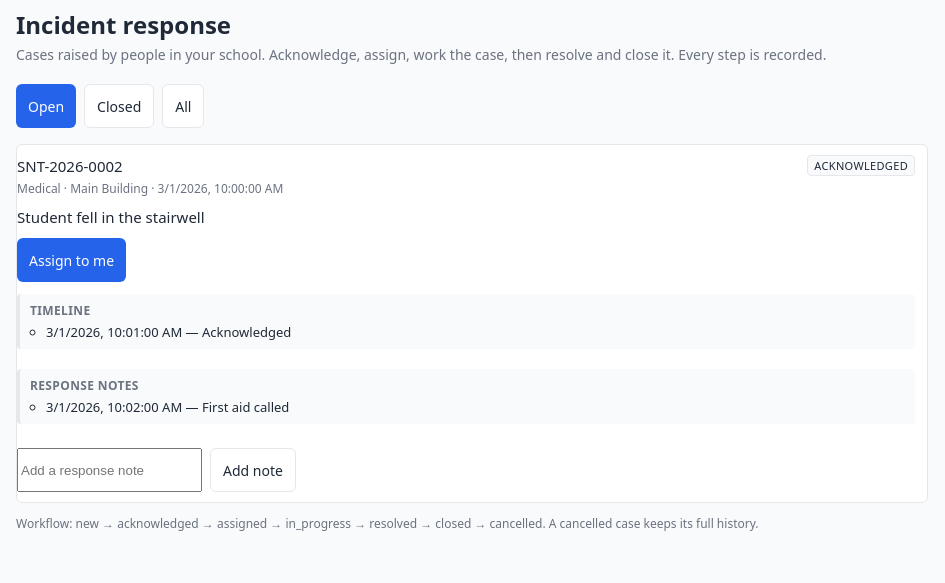
it: AdminIncidents › refuses to send an empty note
This screenshot has width=945, height=583.
Expected: the text "SNT-2026-0002" is shown, x1=17 y1=156 x2=123 y2=176
What coordinates should you click on to do the following:
click the button "Add note"
I would click on:
 (253, 470)
Its box is x1=210 y1=448 x2=296 y2=492.
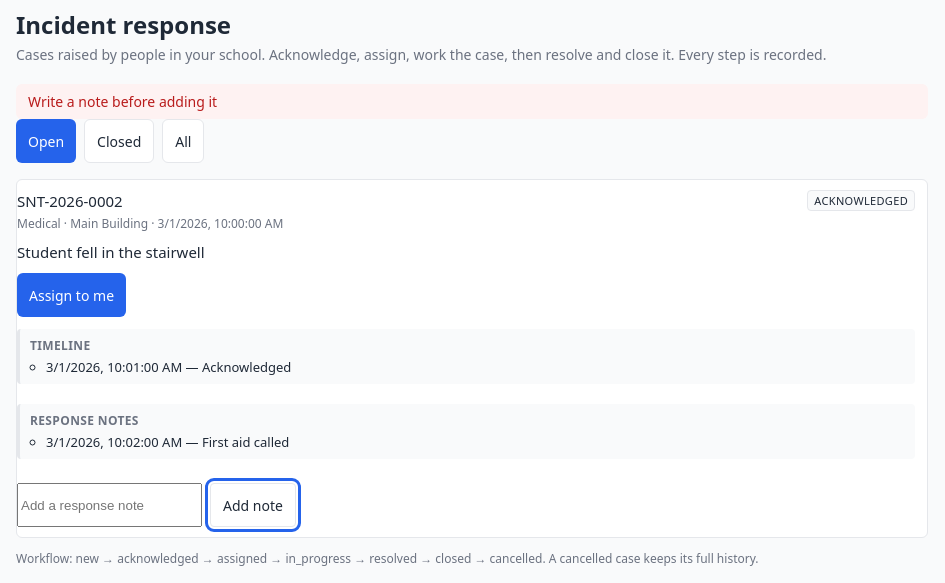
Expected: the message shows "Write a note", x1=28 y1=92 x2=217 y2=111
